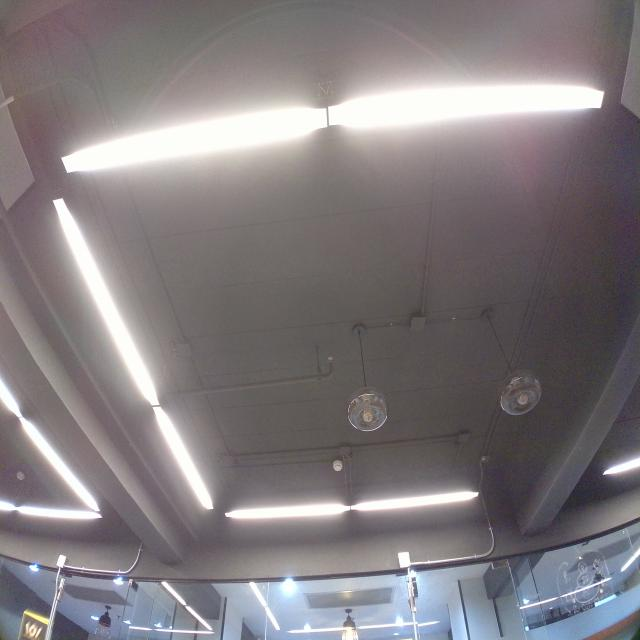lamp2_on: (50, 76, 612, 185), (46, 193, 220, 521), (223, 483, 487, 523)
